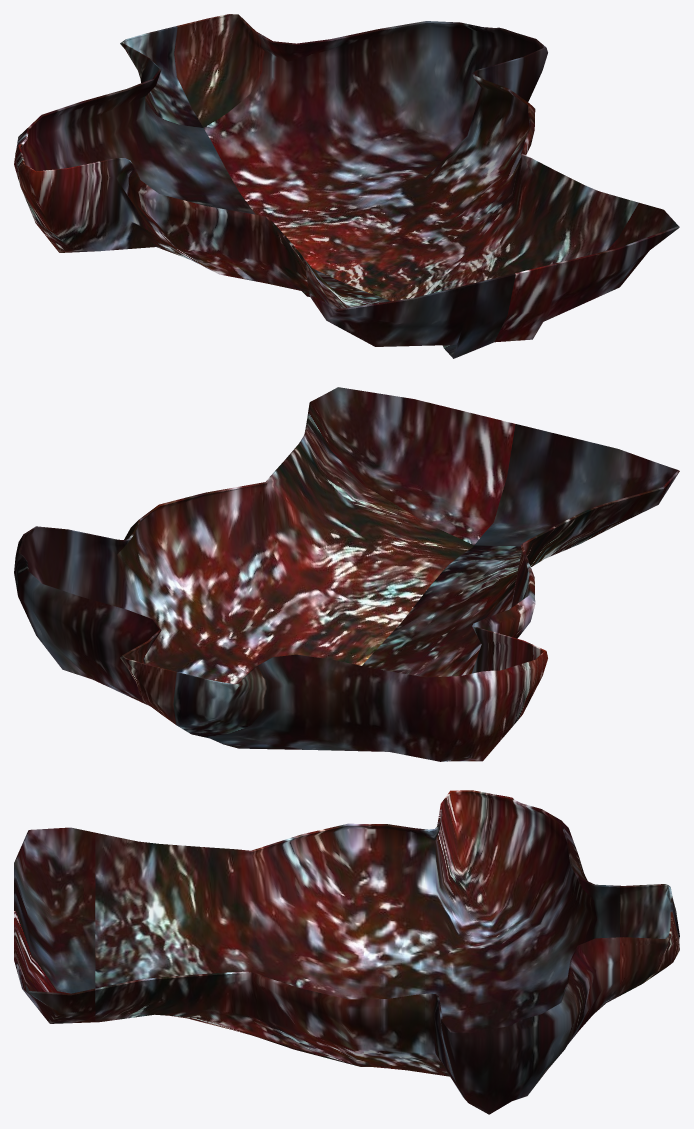
File: koerper_shell_uvmapsangepasst.FBX
The picture shows the model from 3 angles, top to bottom: view 1: azimuth 30°, elevation 25°; view 2: azimuth 150°, elevation 25°; view 3: azimuth 270°, elevation 25°; orthographic projection. The views are drawn at different scales.
Parts seen in each view (by area): view 1: polySurface2; view 2: polySurface2; view 3: polySurface2.
Part boxes in pixels (x1,y1,x2,y2): polySurface2: [14, 14, 679, 358]; polySurface2: [14, 387, 679, 761]; polySurface2: [14, 790, 679, 1114].
Size of the model in its own units: 1.15 by 0.3196 by 1.32.
